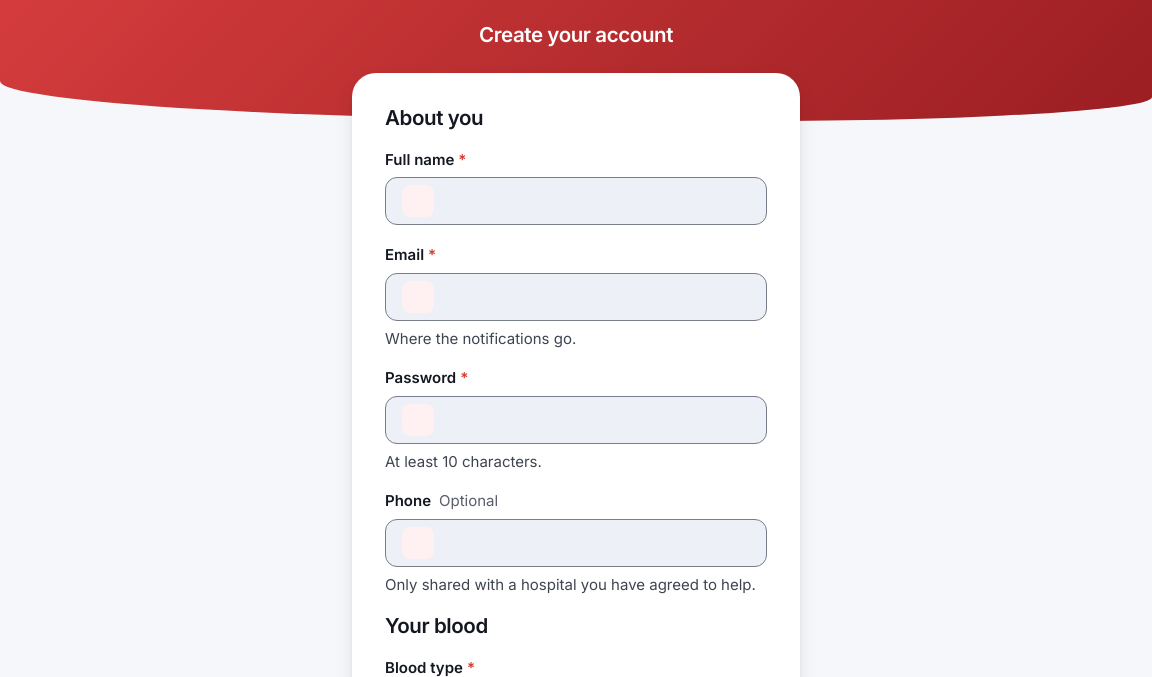
Test: donor registration › shows an unreachable server as a message, not a blank page
Step 1. Type "Ana Petrovska" into the field labelled "Full name*" → (598, 201), box [446,178,750,224]
Step 2. Type "ana@example.com" into the field labelled "Email*" → (598, 297), box [446,274,750,320]
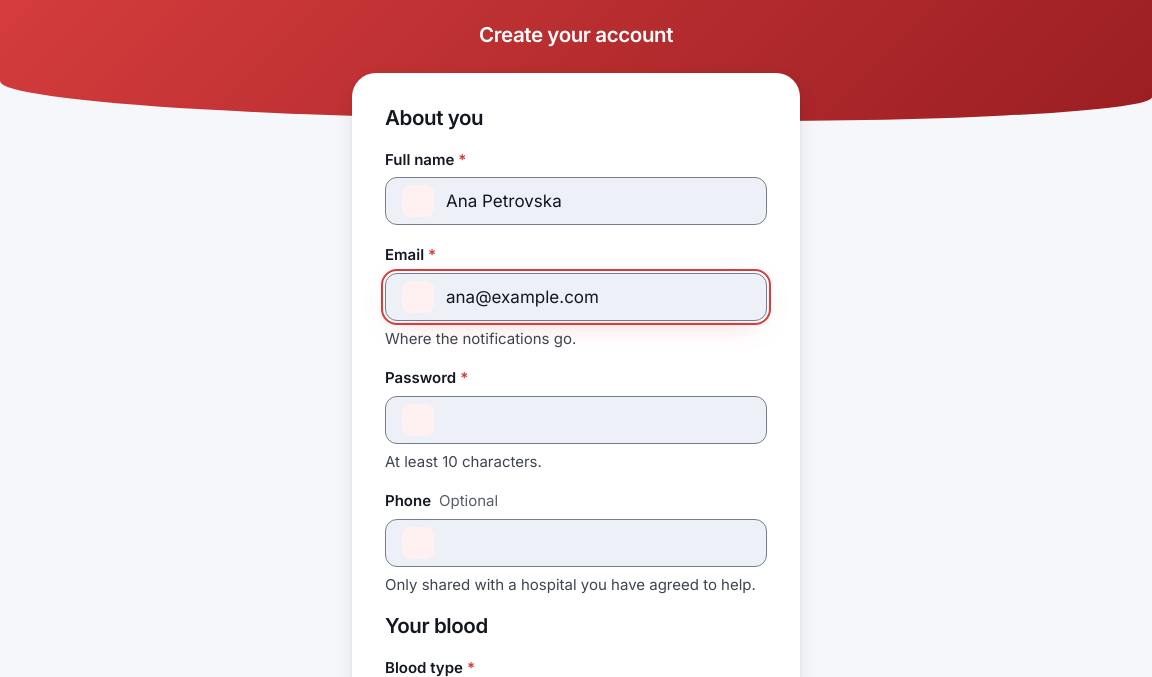
Step 3. Type "a-long-enough-password" into the password field labelled "Password*" → (576, 420), box [446,397,706,443]
(page scrolled)
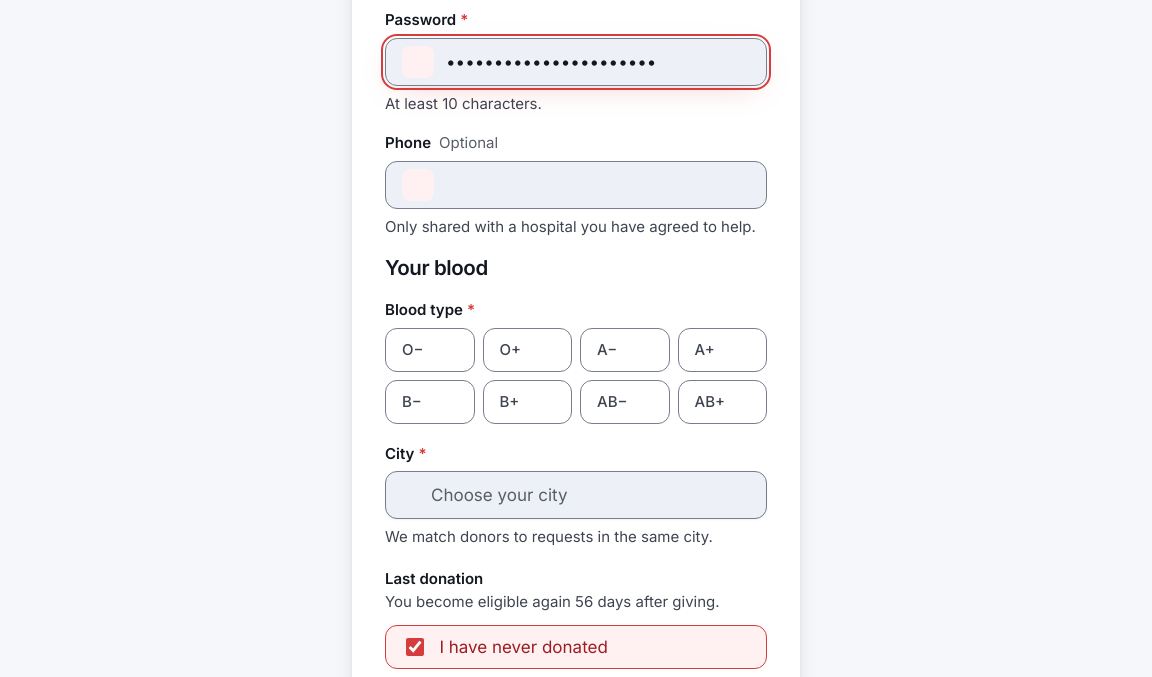
Step 4. Click the button named "O negative" → (430, 350), box [385,328,474,372]
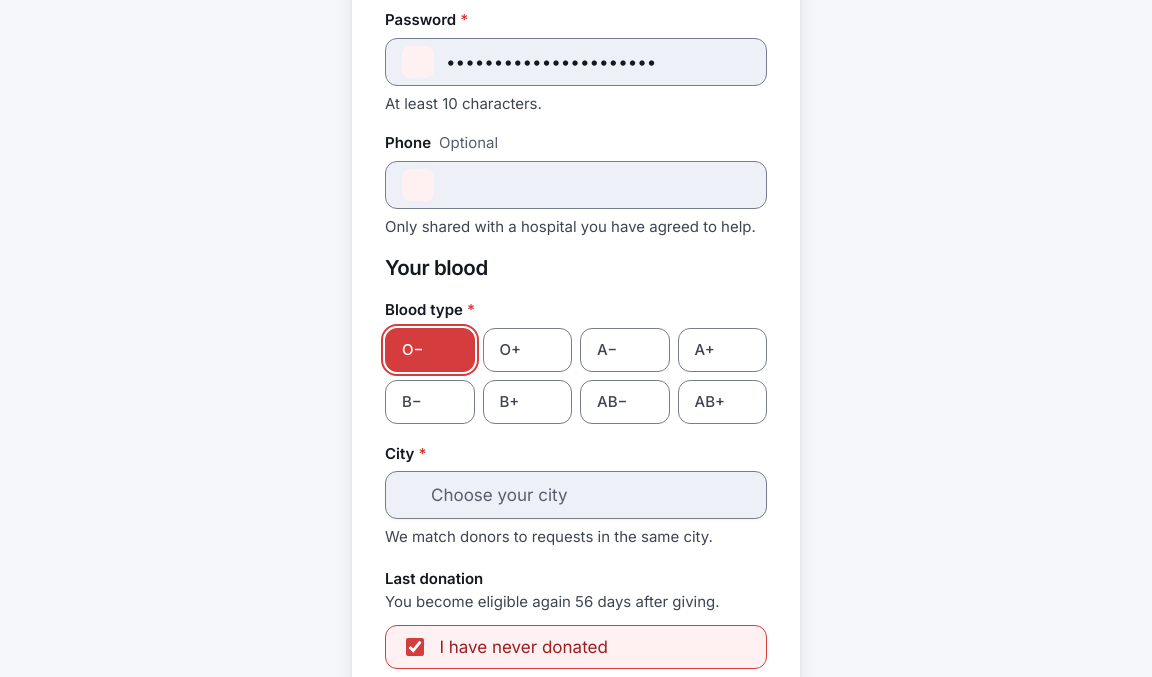
Step 5. Click the dropdown labelled "Choose your city" → (499, 495), box [385,471,767,519]
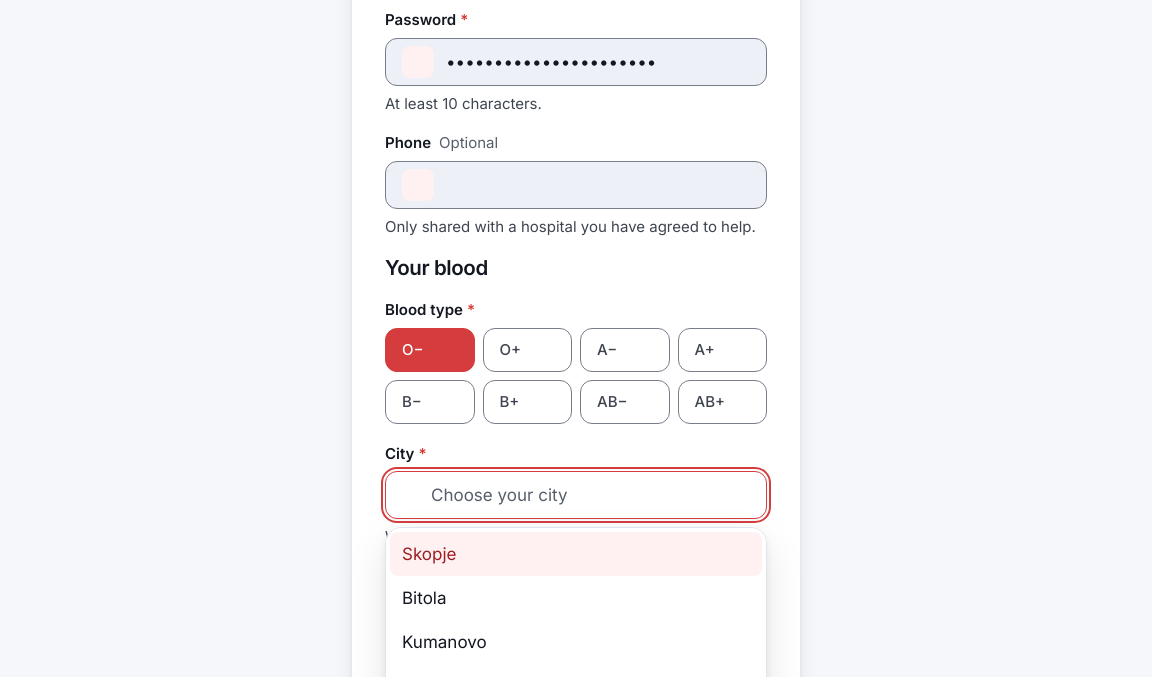
Step 6. Click the option "Skopje" → (429, 554), box [390,532,762,576]
(page scrolled)
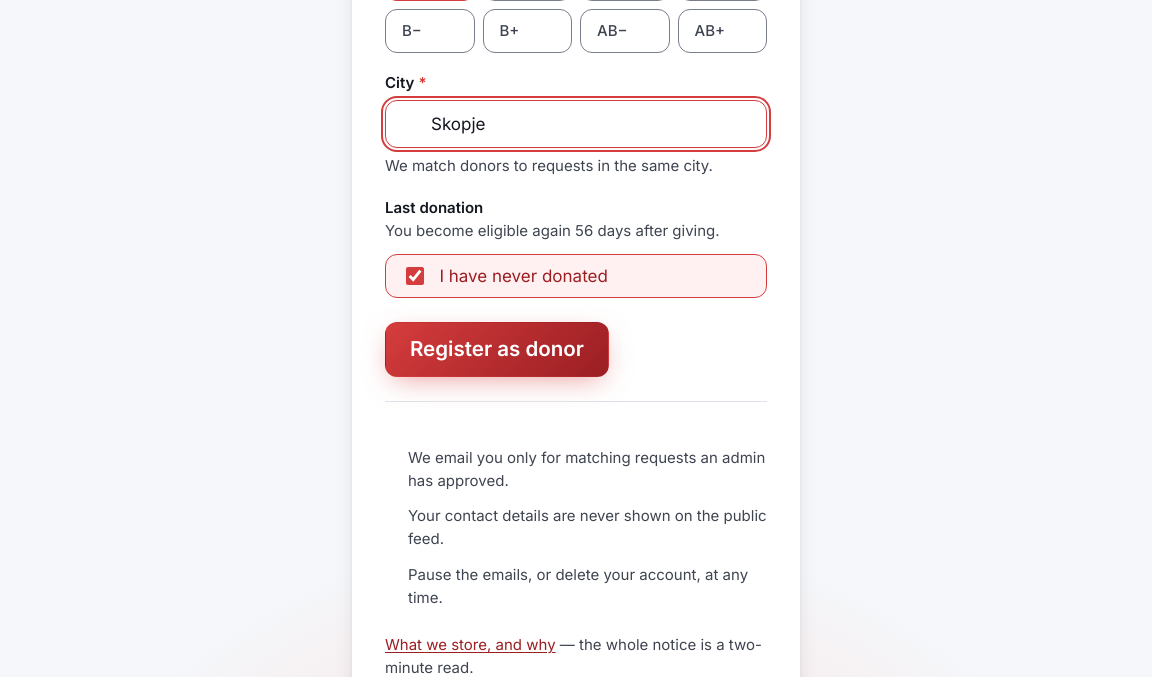
Step 7. Click the button "Register as donor" → (497, 349), box [385,322,609,377]
(page scrolled)
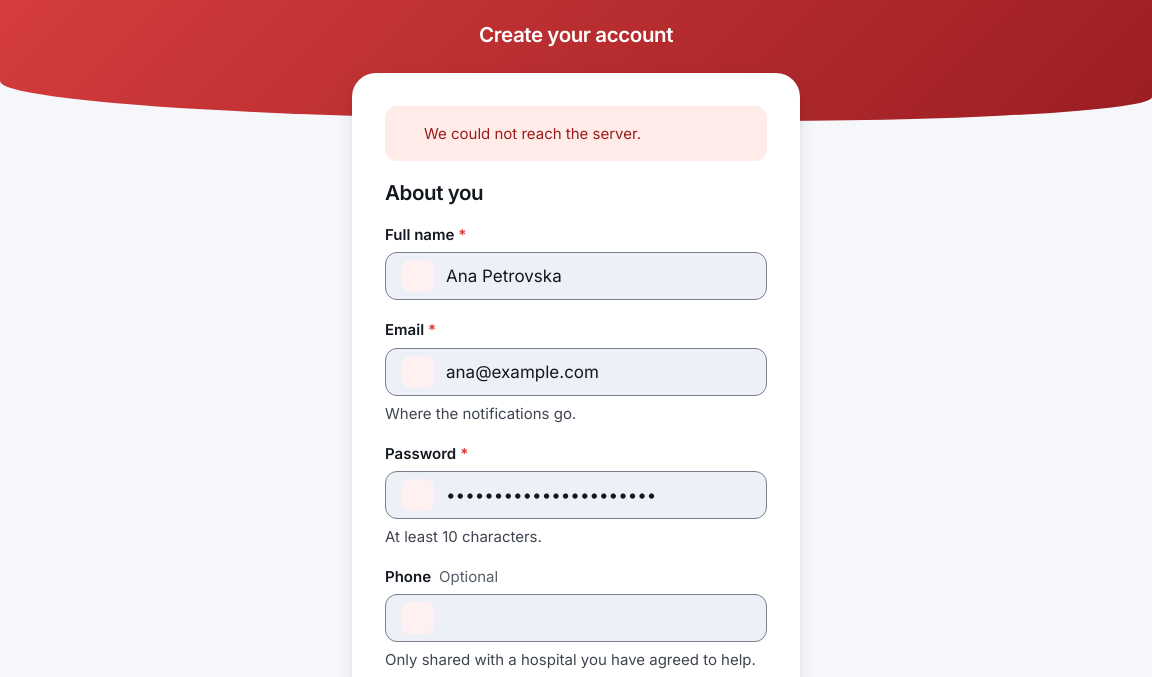
Check: the message reads "We could not reach the server.", box [424,124,641,143]
